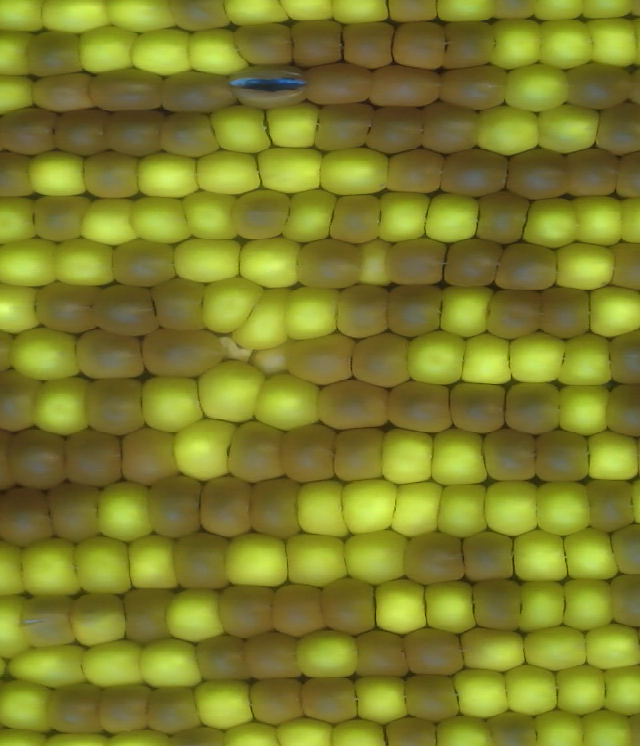fluorescent: (198, 357, 265, 425), (136, 370, 207, 433), (254, 370, 323, 433), (505, 327, 570, 390), (94, 478, 156, 543), (317, 144, 393, 197), (20, 533, 81, 599), (530, 475, 594, 537), (177, 418, 238, 483), (48, 235, 117, 292), (430, 425, 493, 487), (291, 476, 353, 539), (201, 271, 262, 335), (254, 144, 326, 198), (193, 145, 265, 199), (405, 327, 465, 391), (206, 103, 277, 157), (380, 422, 438, 488), (11, 322, 79, 378), (84, 634, 152, 690), (231, 239, 304, 290), (74, 534, 133, 597), (226, 533, 291, 590), (236, 278, 285, 353), (483, 476, 541, 539), (521, 623, 591, 675), (558, 329, 617, 390), (369, 577, 430, 635), (164, 586, 225, 644), (0, 234, 62, 291), (181, 188, 244, 244), (343, 527, 406, 583), (288, 528, 352, 583), (474, 103, 543, 154), (553, 237, 618, 291), (126, 532, 180, 597), (35, 377, 93, 437), (69, 590, 127, 650), (437, 278, 493, 340), (423, 575, 478, 638), (175, 233, 244, 283), (509, 528, 569, 585), (504, 660, 564, 717), (296, 628, 359, 682), (130, 25, 194, 78), (23, 146, 89, 197), (486, 14, 546, 70), (391, 478, 447, 538), (520, 196, 581, 251), (131, 192, 193, 246), (191, 676, 254, 729), (553, 661, 610, 719), (564, 523, 620, 582), (341, 477, 396, 537), (7, 644, 85, 686), (285, 282, 342, 339), (463, 330, 517, 390), (543, 101, 604, 154), (554, 381, 610, 438), (188, 27, 246, 81), (142, 633, 200, 687), (0, 680, 54, 738), (139, 149, 204, 197), (454, 667, 514, 719), (585, 9, 636, 70), (81, 23, 138, 77), (377, 188, 432, 243), (585, 283, 640, 338), (280, 187, 337, 240), (421, 191, 478, 244), (457, 627, 527, 670), (580, 620, 640, 670), (510, 61, 572, 109), (538, 17, 594, 70), (560, 578, 616, 630), (584, 430, 640, 481), (352, 675, 409, 725), (83, 196, 137, 248), (436, 485, 488, 538), (267, 98, 321, 149), (572, 192, 622, 246), (516, 578, 565, 630), (595, 665, 640, 719), (0, 281, 39, 338), (0, 193, 38, 245), (0, 70, 38, 116), (0, 28, 30, 78)
nonfluorescent: (139, 324, 226, 377), (226, 417, 290, 488), (73, 327, 149, 386), (380, 237, 457, 293), (0, 481, 59, 553), (149, 472, 211, 540), (102, 238, 181, 291), (62, 425, 126, 490), (80, 375, 147, 437), (160, 64, 233, 120), (285, 330, 358, 386), (309, 577, 377, 637), (404, 529, 473, 587), (381, 380, 456, 433), (46, 476, 107, 541), (449, 377, 515, 437), (364, 59, 442, 109), (493, 238, 559, 297), (198, 472, 256, 539), (14, 422, 69, 492), (215, 580, 278, 641), (284, 417, 338, 488), (37, 280, 104, 337), (296, 235, 364, 291), (47, 99, 109, 160), (504, 376, 565, 438), (300, 53, 370, 107), (88, 65, 165, 114), (94, 281, 156, 341), (467, 575, 527, 637), (173, 529, 231, 593), (439, 145, 510, 197), (506, 144, 570, 201), (320, 378, 385, 434), (554, 146, 622, 199), (533, 425, 595, 483), (405, 625, 467, 683), (330, 423, 386, 487), (349, 330, 410, 388), (230, 18, 298, 70), (123, 425, 179, 488), (458, 527, 517, 586), (44, 677, 104, 735), (563, 62, 637, 109), (437, 61, 506, 111), (231, 59, 304, 106), (100, 106, 167, 157), (251, 477, 304, 541), (538, 278, 590, 343), (80, 150, 146, 201), (481, 424, 538, 483), (362, 101, 422, 157), (421, 99, 479, 156), (385, 283, 442, 341), (17, 592, 73, 651), (388, 16, 446, 72), (335, 282, 388, 343), (139, 682, 200, 735), (98, 680, 160, 732), (446, 234, 501, 292), (486, 288, 544, 343), (248, 676, 310, 727), (352, 627, 409, 682), (244, 628, 302, 682), (327, 187, 380, 246), (270, 580, 323, 639), (232, 190, 294, 240), (473, 191, 530, 245), (154, 277, 209, 332), (0, 103, 56, 156), (300, 674, 364, 720), (339, 18, 394, 71), (309, 101, 367, 151), (293, 20, 348, 72), (32, 70, 96, 114), (35, 191, 88, 244), (121, 587, 174, 640), (583, 474, 633, 530), (0, 366, 41, 433), (384, 148, 442, 195), (439, 18, 494, 66), (27, 29, 85, 74), (165, 107, 217, 157), (405, 671, 459, 719), (594, 101, 640, 156), (198, 634, 246, 686), (485, 709, 544, 746), (607, 327, 640, 388), (607, 382, 640, 440), (0, 148, 35, 201), (610, 570, 640, 629), (607, 239, 640, 292)
